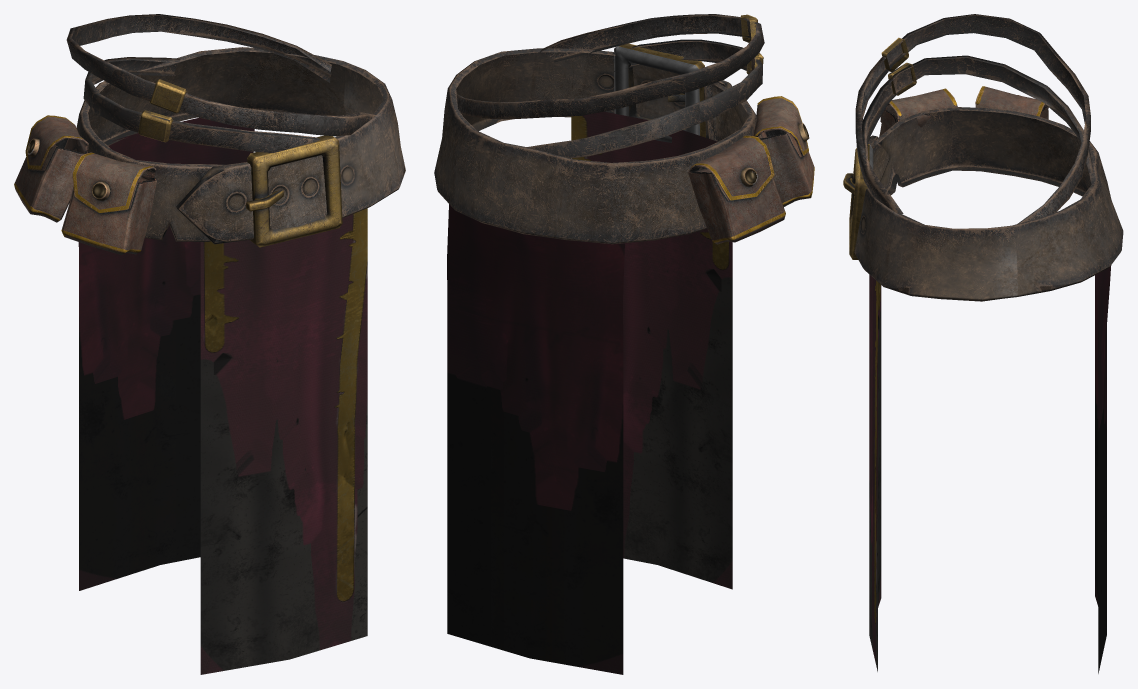
Rendered from sm_human_varnaic_belt.gltf.
3 views of the same model, side by side, from view 1: azimuth 30°, elevation 25°; view 2: azimuth 150°, elevation 25°; view 3: azimuth 270°, elevation 25° (orthographic). The views are drawn at different scales.
Parts seen in each view (by area): view 1: sm_human_varnaic_belt; view 2: sm_human_varnaic_belt; view 3: sm_human_varnaic_belt.
Part boxes in pixels (x1,y1,x2,y2): sm_human_varnaic_belt: [14, 14, 405, 674]; sm_human_varnaic_belt: [434, 14, 814, 674]; sm_human_varnaic_belt: [843, 14, 1123, 673].
Size of the model in its own units: 43.06 by 71.69 by 32.83.
